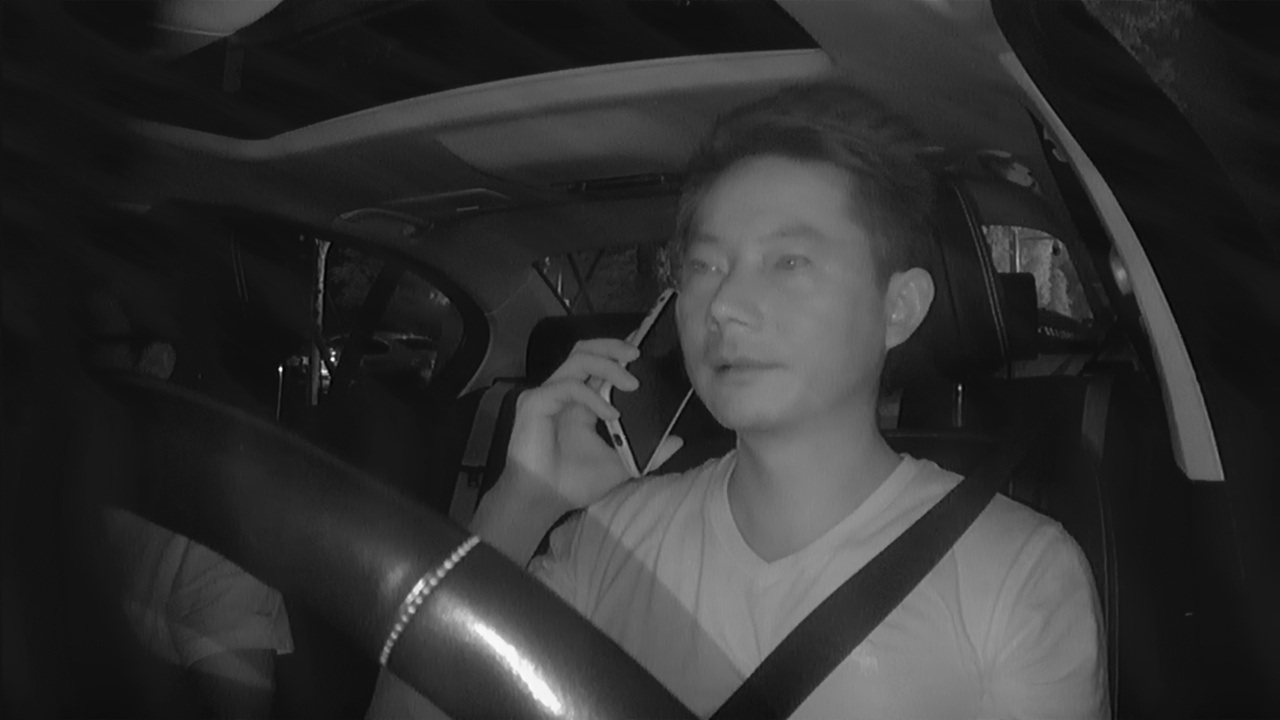hand: (513, 327, 684, 507)
